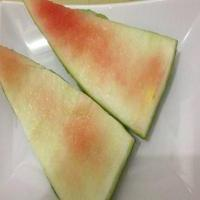biodegradable: (23, 0, 179, 141), (0, 43, 137, 200)
